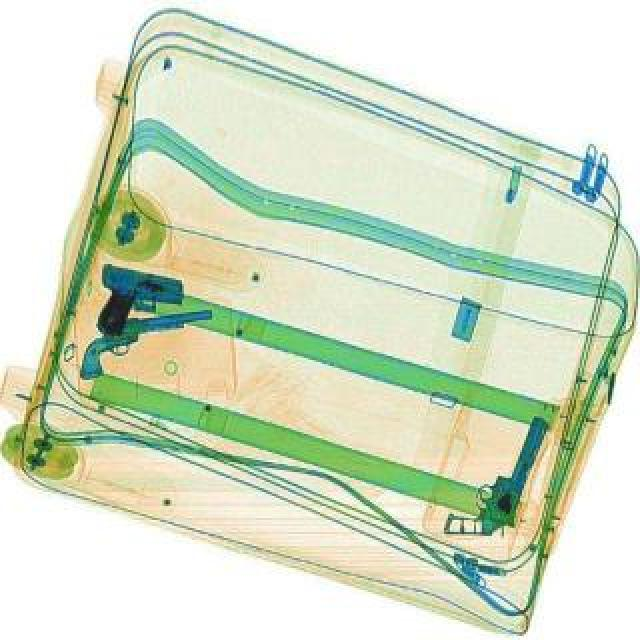gun: (442, 404, 562, 554), (66, 292, 222, 382), (88, 262, 186, 344)
